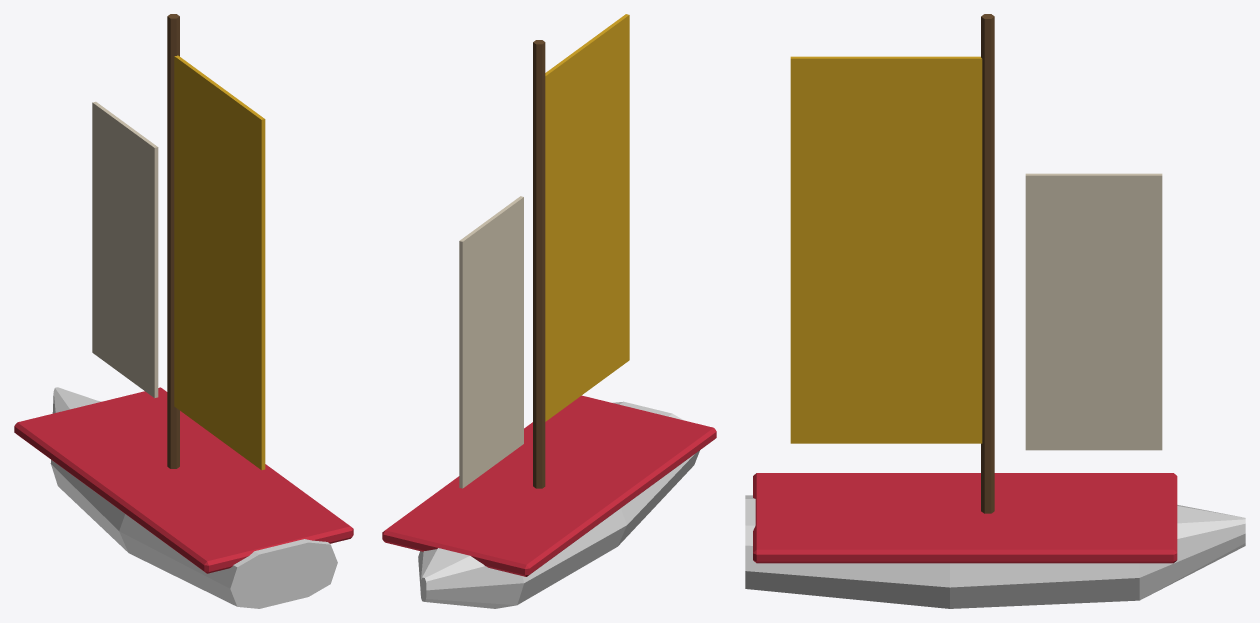
Rendered from boat.glb.
3 renders of one model, left to right at view 1: azimuth 30°, elevation 25°; view 2: azimuth 150°, elevation 25°; view 3: azimuth 270°, elevation 25°, orthographic. The views are drawn at different scales.
Parts seen in each view (by area): view 1: boat; view 2: boat; view 3: boat.
Boxes of the visible parts, x1,y1,x2,y2 form: boat: [14, 14, 353, 608]; boat: [382, 14, 716, 608]; boat: [745, 14, 1245, 608].
Bounding box in the file's own units: 2.5 × 8.28 × 6.6.
